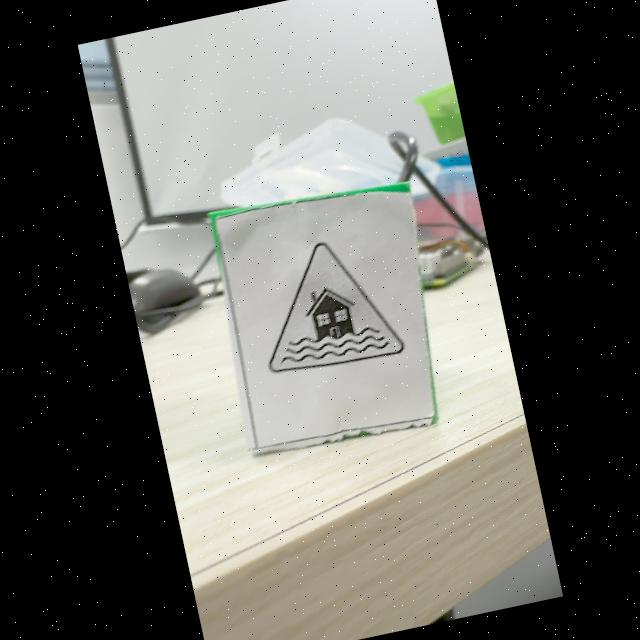Tsunami: (269, 243, 403, 372)
